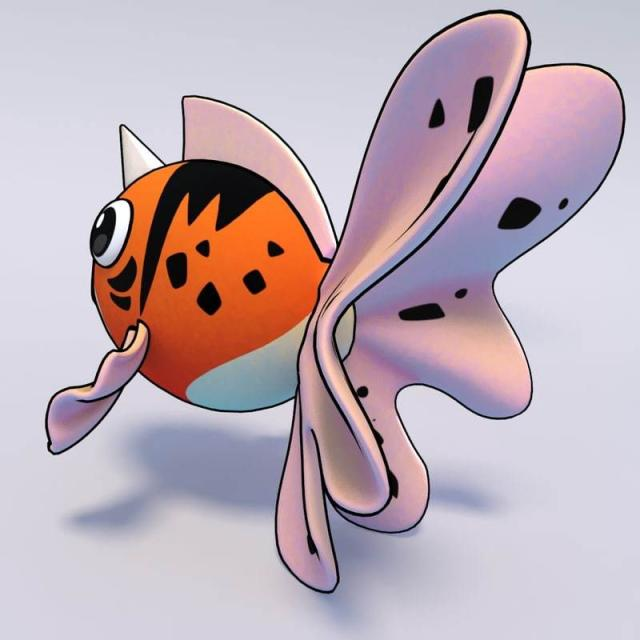Seaking: (64, 90, 521, 423)
